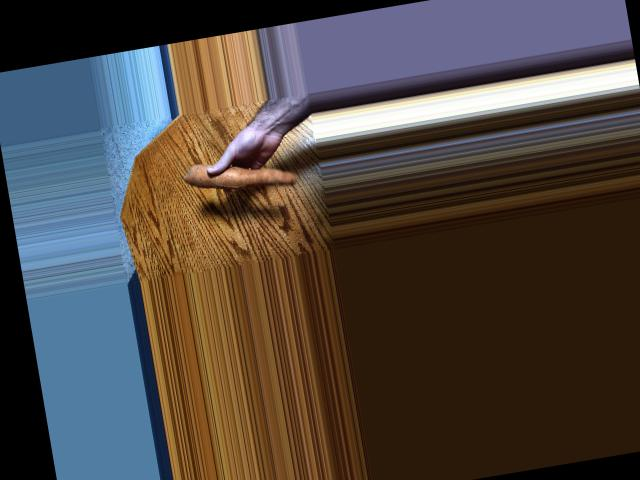sweet_potato: (185, 158, 296, 197)
